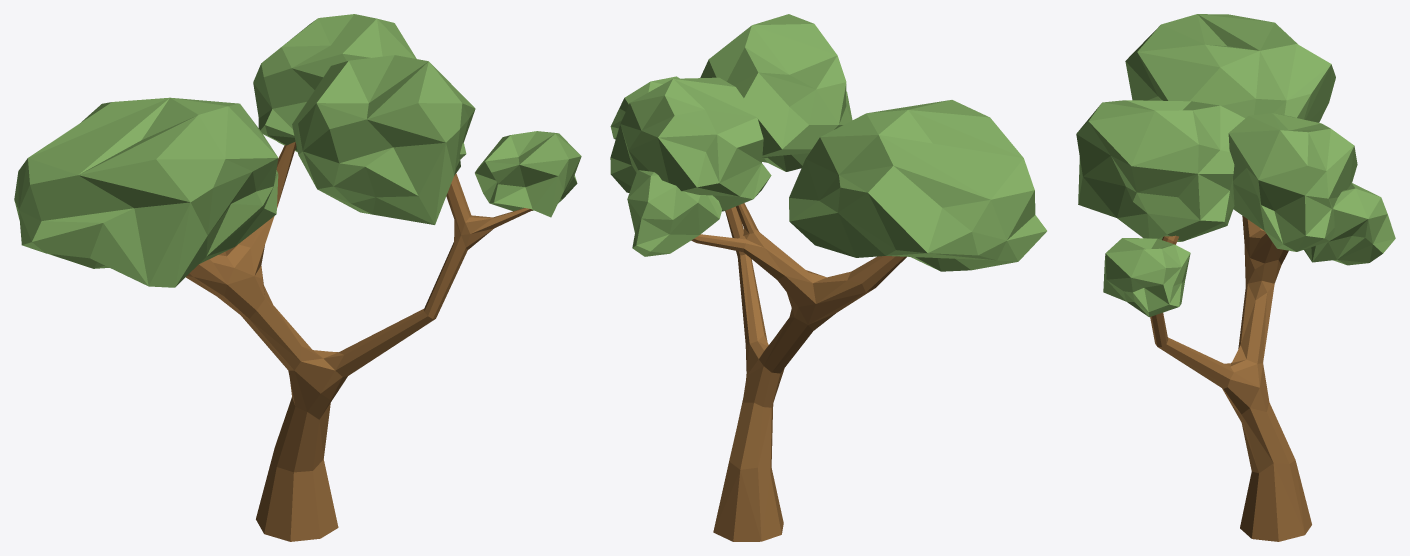
Rendered from Tree2.fbx.
3 views of the same model, side by side, from view 1: azimuth 30°, elevation 25°; view 2: azimuth 150°, elevation 25°; view 3: azimuth 270°, elevation 25° (orthographic). The views are drawn at different scales.
Visible parts, largest first — view 1: Cube.013; view 2: Cube.013; view 3: Cube.013.
Part boxes in pixels (x1,y1,x2,y2): Cube.013: (14, 14, 581, 541); Cube.013: (610, 14, 1046, 541); Cube.013: (1076, 14, 1395, 541).
Size of the model in its own units: 8.28 by 7.66 by 4.99.
